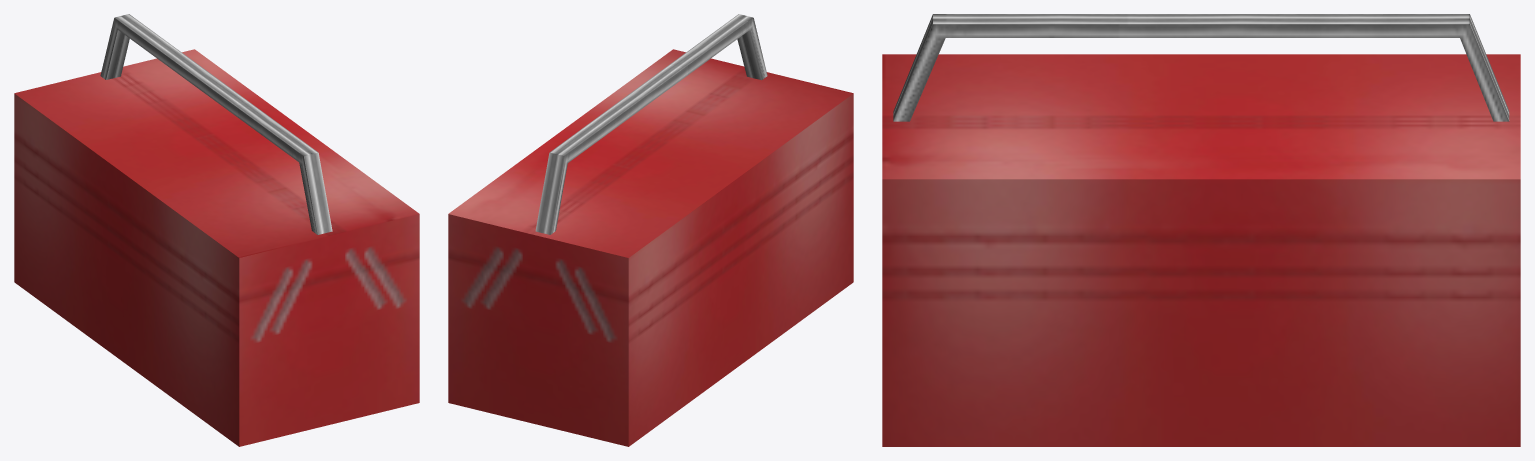
File: ToolBox1.fbx
3 views of the same model, side by side, from view 1: azimuth 30°, elevation 25°; view 2: azimuth 150°, elevation 25°; view 3: azimuth 270°, elevation 25° (orthographic). The views are drawn at different scales.
Visible parts, largest first — view 1: ToolBox1.002; view 2: ToolBox1.002; view 3: ToolBox1.002.
Boxes of the visible parts, x1,y1,x2,y2 form: ToolBox1.002: (14,14,419,446); ToolBox1.002: (448,14,853,446); ToolBox1.002: (882,14,1520,446).
Bounding box in the file's own units: 35.76 × 48.75 × 77.22.
1 material, 1 textured.
